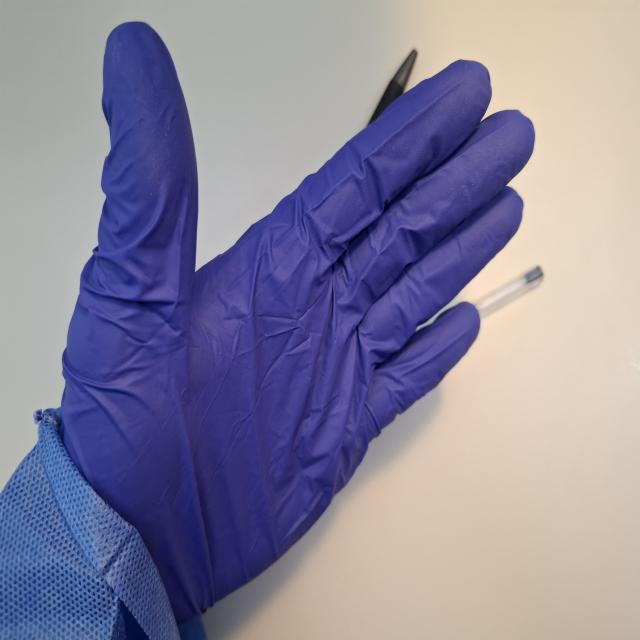glove_on: (56, 18, 539, 630)
